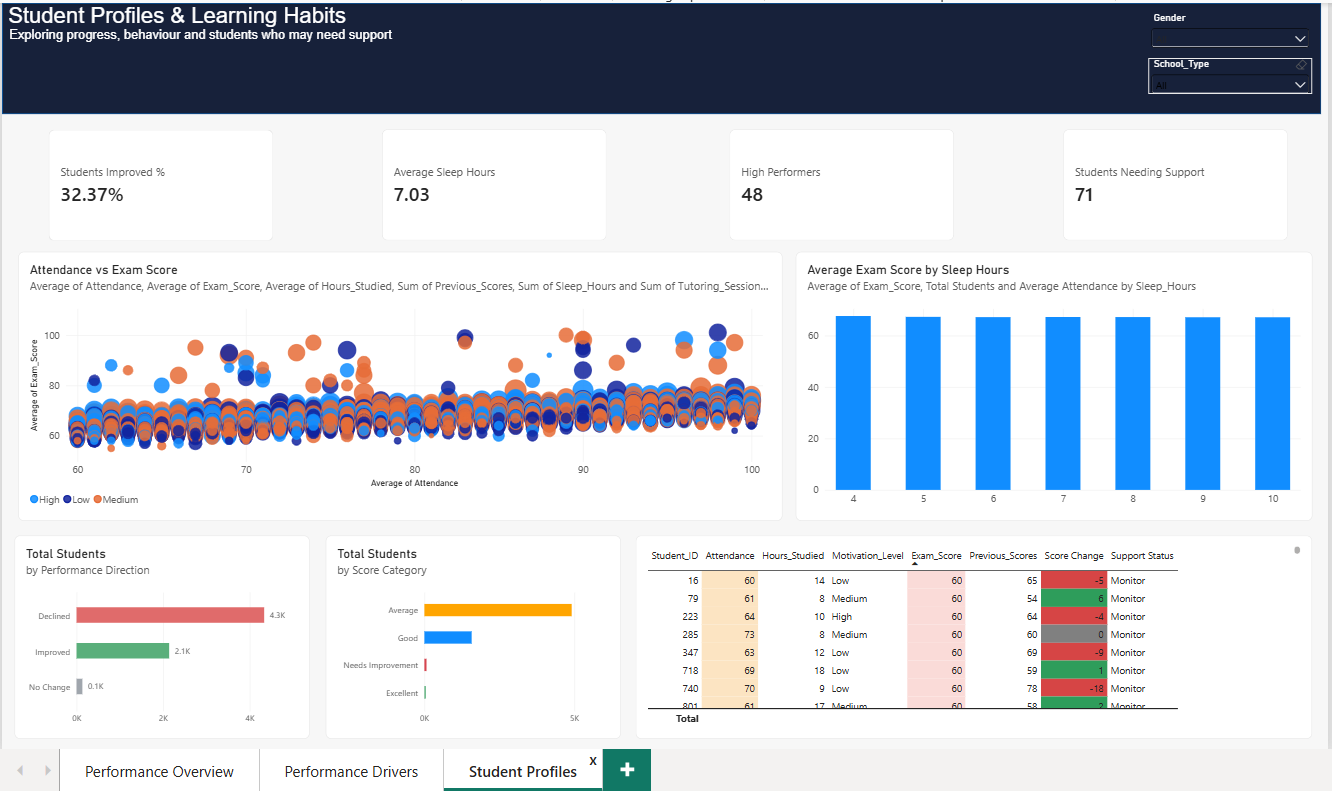

Layout of this report page (visuals, bound fields, positions):
{"tool":"powerbi","page":{"name":"Student Profiles","canvas":[1920,1080],"ordinal":2},"visuals":[{"type":"shape","box":[0,0,1910,160.9],"z":0},{"type":"textbox","box":[0,0,1910,161],"z":1000},{"type":"cardVisual","fields":{"Data":["StudentPerformanceFactors.Students Improved %"]},"box":[66.7,183.2,325.9,161.4],"z":2000},{"type":"cardVisual","fields":{"Data":["StudentPerformanceFactors.Average Sleep Hours"]},"box":[551,183.2,325.9,161.4],"z":3000},{"type":"cardVisual","fields":{"Data":["StudentPerformanceFactors.High Performers"]},"box":[1052.4,183.2,325.9,161.4],"z":4000},{"type":"cardVisual","fields":{"Data":["StudentPerformanceFactors.Students Needing Support"]},"box":[1536.6,183.2,325.9,161.4],"z":5000},{"type":"scatterChart","title":"Attendance vs Exam Score","fields":{"Category":["StudentPerformanceFactors.Student_ID"],"Series":["StudentPerformanceFactors.Motivation_Level"],"Size":["Avg(StudentPerformanceFactors.Hours_Studied)"],"X":["Avg(StudentPerformanceFactors.Attendance)"],"Y":["Avg(StudentPerformanceFactors.Exam_Score)"]},"box":[23.3,360.1,1106.7,389.6],"z":6000},{"type":"clusteredColumnChart","title":"Average Exam Score by Sleep Hours","fields":{"Category":["StudentPerformanceFactors.Sleep_Hours"],"Y":["Avg(StudentPerformanceFactors.Exam_Score)"]},"box":[1148.6,360.1,748.1,389.6],"z":7000},{"type":"clusteredBarChart","fields":{"Category":["StudentPerformanceFactors.Performance Direction"],"Y":["StudentPerformanceFactors.Total Students"]},"box":[19,770.3,427.5,294.7],"z":8000},{"type":"clusteredBarChart","fields":{"Category":["StudentPerformanceFactors.Score Category"],"Y":["StudentPerformanceFactors.Total Students"]},"box":[468.8,771.1,427.5,294.7],"z":9000},{"type":"tableEx","fields":{"Values":["StudentPerformanceFactors.Student_ID","StudentPerformanceFactors.Attendance","StudentPerformanceFactors.Hours_Studied","StudentPerformanceFactors.Motivation_Level","StudentPerformanceFactors.Exam_Score","StudentPerformanceFactors.Previous_Scores","StudentPerformanceFactors.Score Change","StudentPerformanceFactors.Support Status"]},"box":[917.6,771.1,979.3,294.6],"z":10000},{"type":"slicer","fields":{"Values":["StudentPerformanceFactors.Gender"]},"box":[1659.4,12.3,237.8,52.4],"z":11000},{"type":"slicer","fields":{"Values":["StudentPerformanceFactors.School_Type"]},"box":[1659.4,80.2,237.8,52.4],"z":12000}]}

Visuals, with their boxes on the page's 1920x1080 design canvas (x1, y1, x2, y2). These are canvas units, not pixel positions in the 1332x791 screenshot, which may show the page scaled, cropped or inside an application window:
shape: {"left": 0, "top": 0, "right": 1910, "bottom": 161}
textbox: {"left": 0, "top": 0, "right": 1910, "bottom": 161}
cardVisual - StudentPerformanceFactors.Students Improved %: {"left": 67, "top": 183, "right": 393, "bottom": 345}
cardVisual - StudentPerformanceFactors.Average Sleep Hours: {"left": 551, "top": 183, "right": 877, "bottom": 345}
cardVisual - StudentPerformanceFactors.High Performers: {"left": 1052, "top": 183, "right": 1378, "bottom": 345}
cardVisual - StudentPerformanceFactors.Students Needing Support: {"left": 1537, "top": 183, "right": 1862, "bottom": 345}
"Attendance vs Exam Score" scatterChart: {"left": 23, "top": 360, "right": 1130, "bottom": 750}
"Average Exam Score by Sleep Hours" clusteredColumnChart: {"left": 1149, "top": 360, "right": 1897, "bottom": 750}
clusteredBarChart - StudentPerformanceFactors.Performance Direction x StudentPerformanceFactors.Total Students: {"left": 19, "top": 770, "right": 446, "bottom": 1065}
clusteredBarChart - StudentPerformanceFactors.Score Category x StudentPerformanceFactors.Total Students: {"left": 469, "top": 771, "right": 896, "bottom": 1066}
tableEx - StudentPerformanceFactors.Student_ID x StudentPerformanceFactors.Attendance: {"left": 918, "top": 771, "right": 1897, "bottom": 1066}
slicer - StudentPerformanceFactors.Gender: {"left": 1659, "top": 12, "right": 1897, "bottom": 65}
slicer - StudentPerformanceFactors.School_Type: {"left": 1659, "top": 80, "right": 1897, "bottom": 133}
